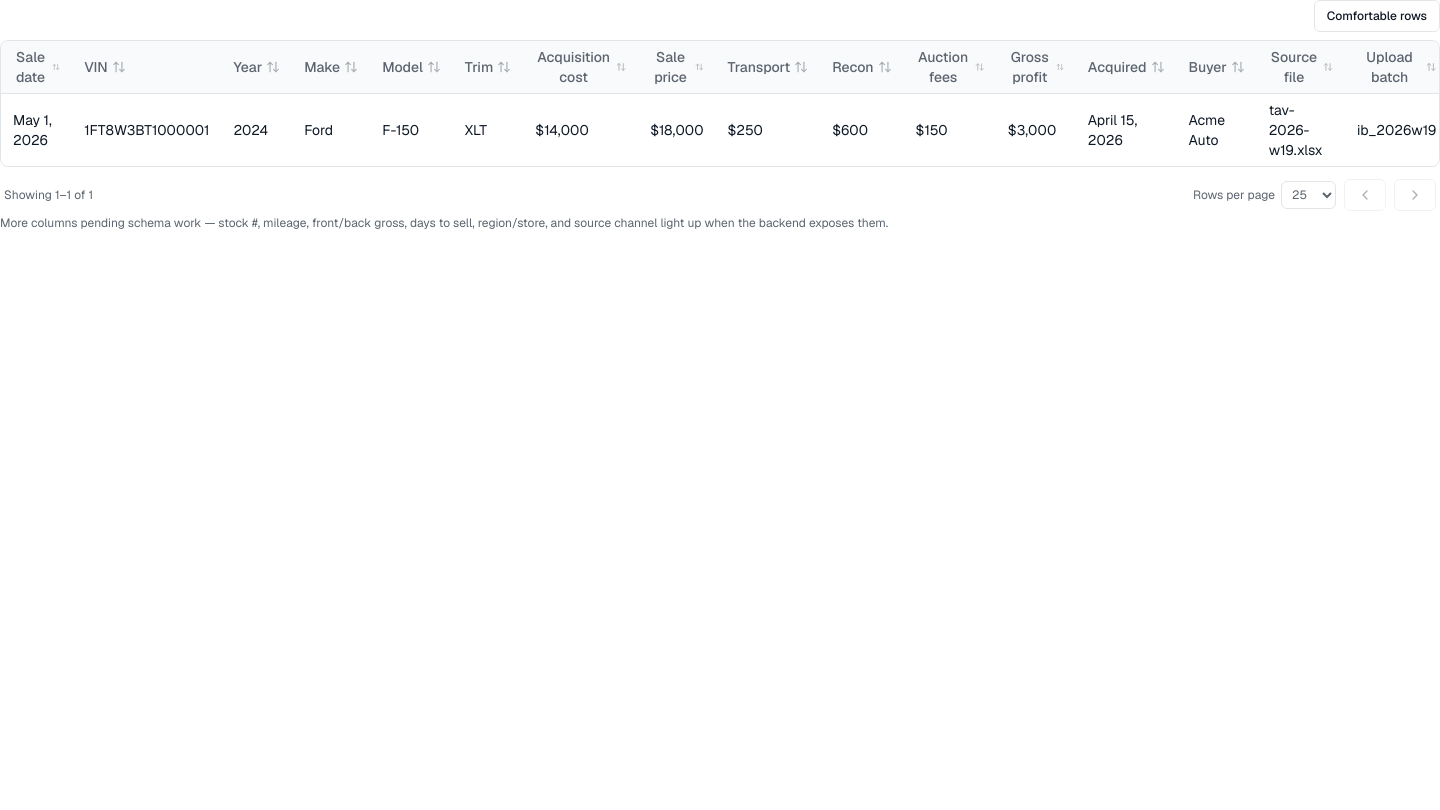
it: SalesTable › clicking a row opens the detail sheet with the full record (no extra fetch)
The image size is (1440, 810).
Click the button that starts with "May 1, 2026": (32, 120) [1, 94, 1439, 166]
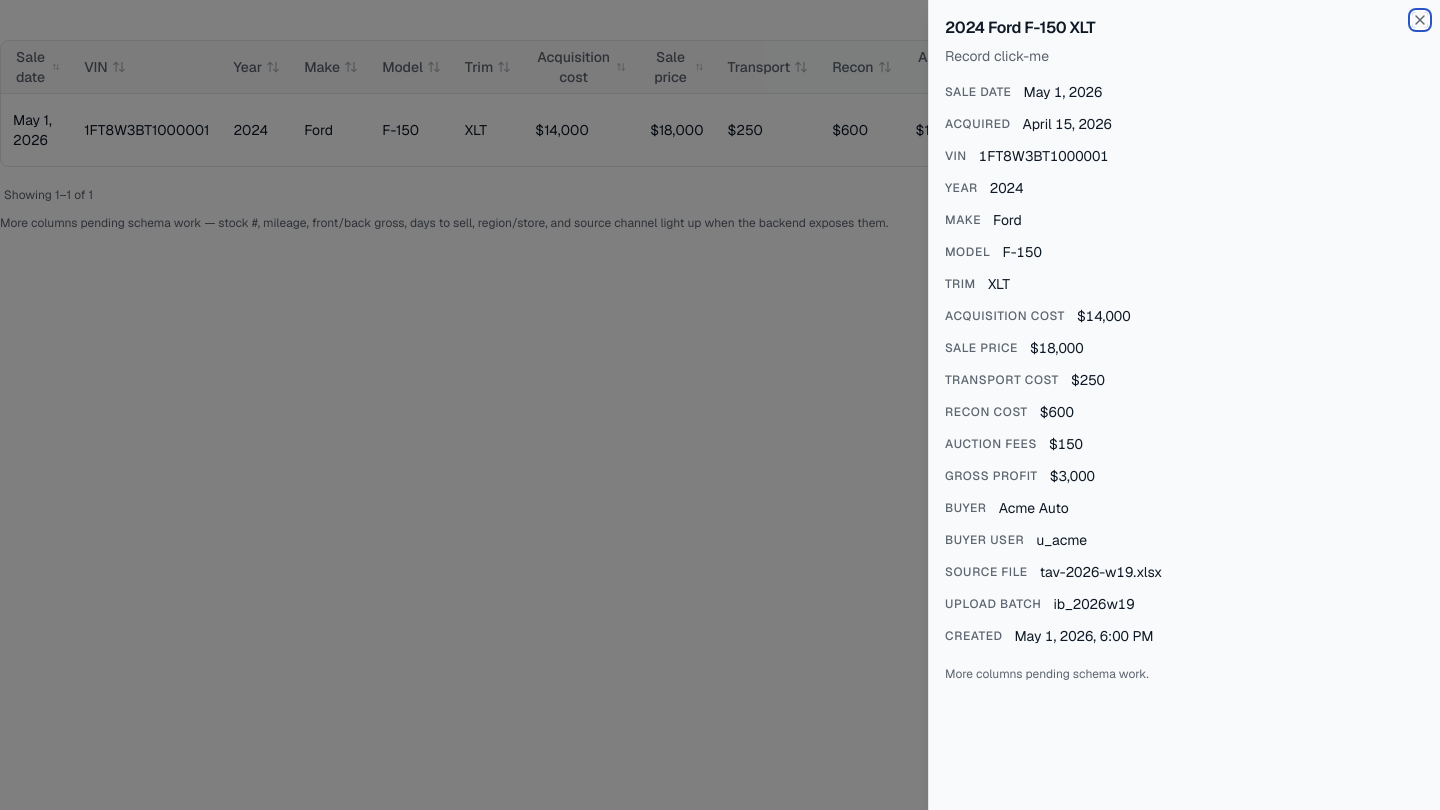
Check: the heading "2024 Ford F-150 XLT" is shown, box [945, 17, 1095, 38]
Check: the text "Record click-me" is shown, box [945, 47, 1049, 65]
Check: the text "$3,000" is shown, box [1050, 467, 1095, 485]
